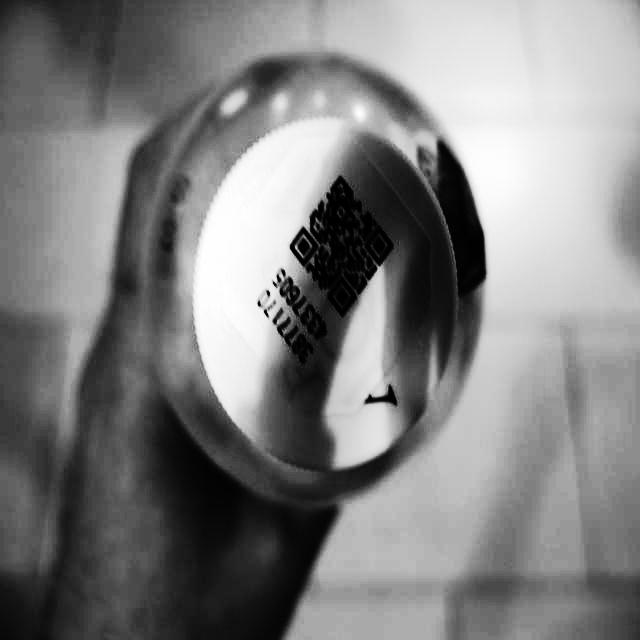qr_code: (290, 175, 394, 316)
